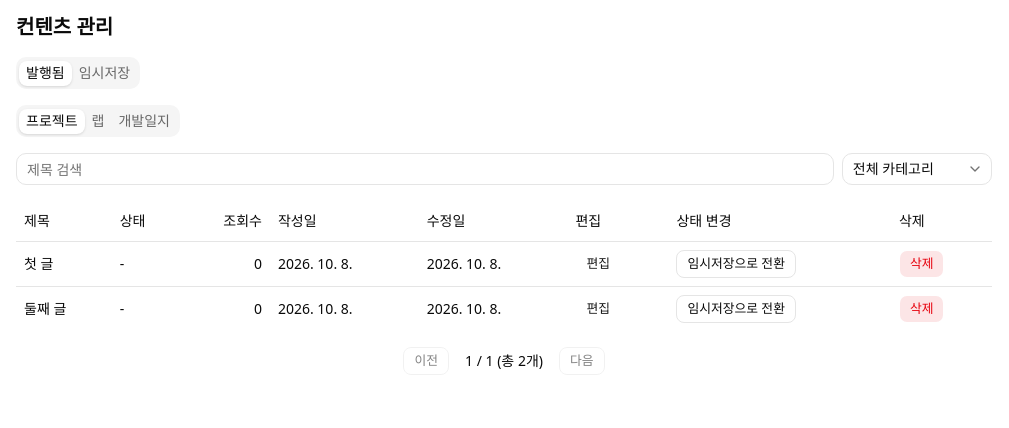
Test: PostListPage 발행 전환 › 경계 › 전환 오류 후에도 표의 행들은 그대로 있고 재조회는 일어나지 않아야 한다
Expected: the text "첫 글" is shown, [16,241,112,286]
Click the button "임시저장으로 전환" in the row of "첫 글": (736, 264) [676,250,796,278]
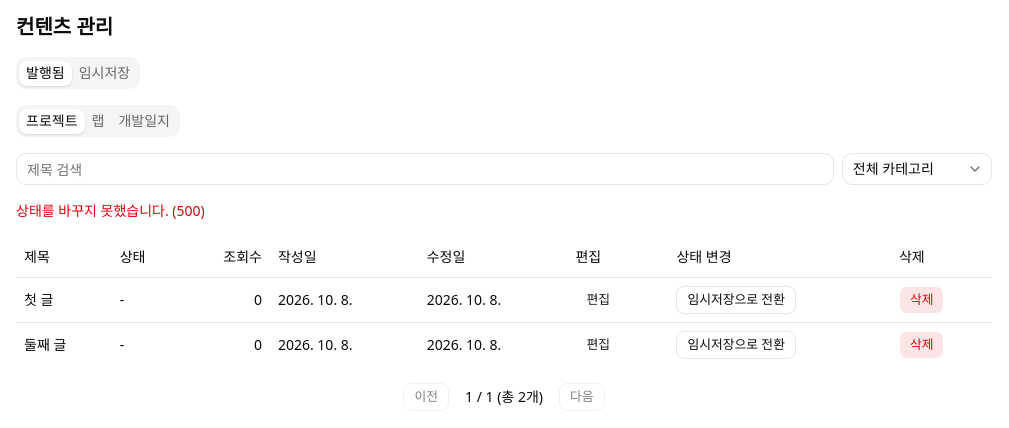
Expected: the text "첫 글" is shown, [16,277,112,322]
Expected: the message "상태를 바꾸지 못했습니다. (500)" is shown, [16,201,205,220]
